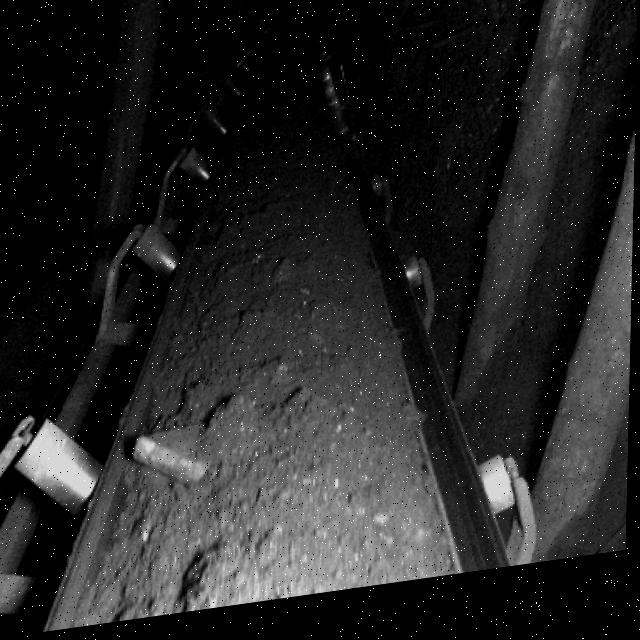large_sized_coal: (133, 423, 210, 500)
